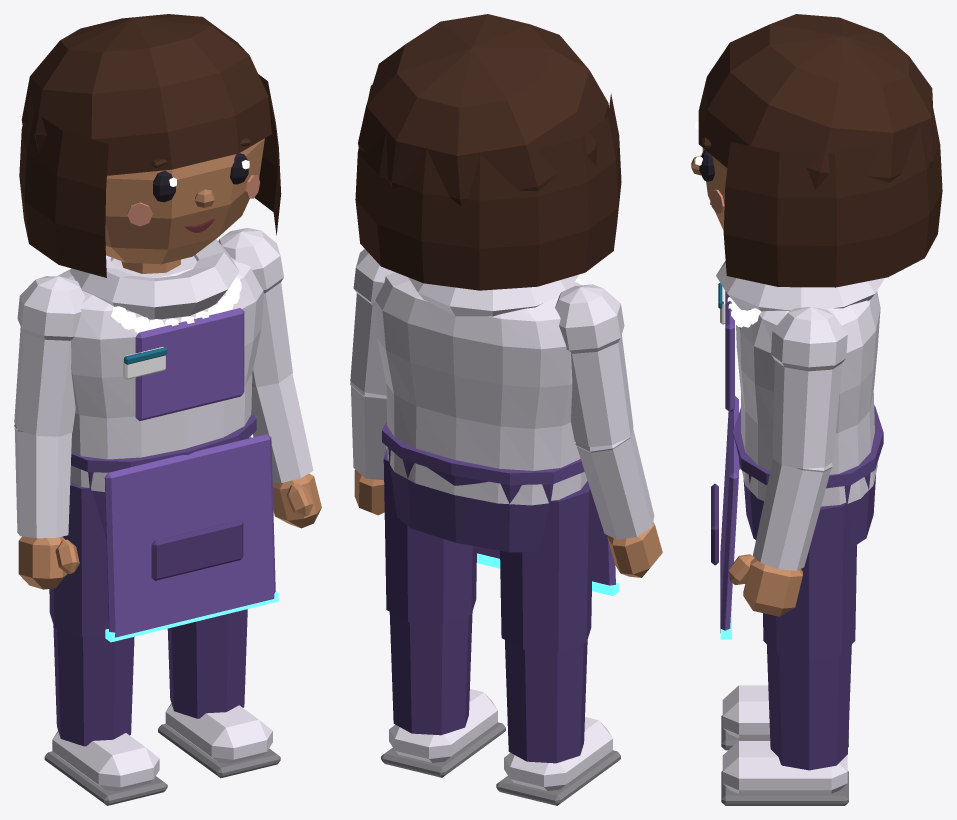
File: kas_aby.glb
The picture shows the model from 3 angles, left to right: view 1: azimuth 30°, elevation 25°; view 2: azimuth 150°, elevation 25°; view 3: azimuth 270°, elevation 25°; orthographic projection.
Parts seen in each view (by area): view 1: haare, schürze, torso, arm_r, bein_r, kopf, arm_l, bein_l, kragen, schuh_r, schuh_l, hand_r (+4 smaller); view 2: haare, torso, bein_r, bein_l, arm_r, becken, arm_l, schürze, schuh_r, schuh_l, kragen, hand_r (+1 smaller); view 3: haare, bein_l, arm_l, torso, schürze, schuh_l, kragen, hand_l, schuh_r, becken, gesicht, kopf (+1 smaller).
Boxes of the visible parts, x1,y1,x2,y2 form: haare: [19, 14, 281, 277]; schürze: [71, 308, 278, 642]; torso: [57, 256, 263, 491]; arm_r: [14, 276, 85, 538]; bein_r: [49, 482, 134, 746]; kopf: [105, 138, 264, 264]; arm_l: [218, 228, 313, 483]; bein_l: [167, 436, 251, 718]; kragen: [69, 239, 239, 319]; schuh_r: [44, 731, 167, 805]; schuh_l: [158, 703, 280, 778]; hand_r: [18, 536, 79, 589]; haare: [355, 14, 621, 290]; torso: [374, 272, 587, 505]; bein_r: [500, 481, 593, 763]; bein_l: [383, 448, 476, 735]; arm_r: [555, 284, 654, 539]; becken: [388, 448, 553, 552]; arm_l: [350, 249, 394, 480]; schürze: [382, 422, 618, 595]; schuh_r: [496, 717, 620, 805]; schuh_l: [381, 689, 505, 777]; kragen: [408, 274, 579, 316]; hand_r: [607, 522, 662, 577]; haare: [698, 14, 942, 287]; bein_l: [763, 502, 856, 770]; arm_l: [753, 306, 847, 570]; torso: [736, 291, 880, 506]; schürze: [711, 291, 883, 639]; schuh_l: [721, 741, 848, 805]; kragen: [716, 261, 884, 311]; hand_l: [728, 554, 802, 616]; schuh_r: [721, 685, 848, 750]; becken: [743, 473, 875, 548]; gesicht: [691, 121, 724, 213]; kopf: [702, 148, 727, 230].
Bounding box in the file's own units: 0.0103 × 0.0245 × 0.00763.
